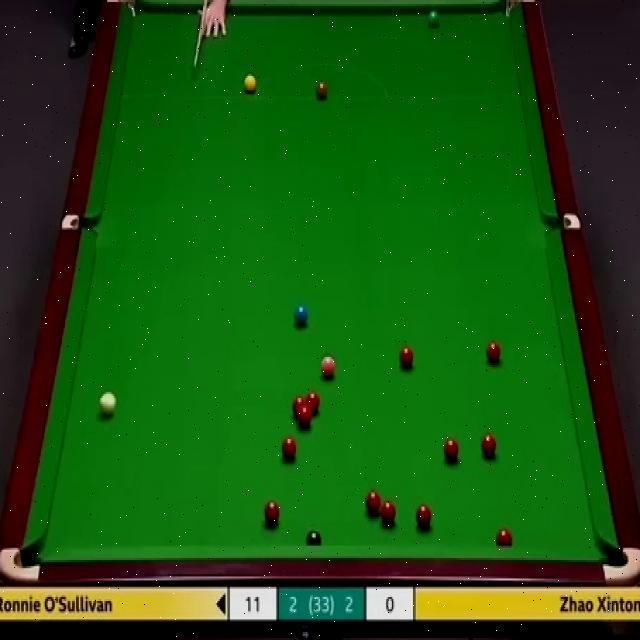black-ball: (305, 524, 323, 548)
blue-ball: (292, 304, 308, 329)
brown-ball: (314, 78, 328, 102)
green-ball: (426, 9, 442, 29)
pink-ball: (321, 351, 336, 379)
red-ball: (380, 498, 397, 529), (398, 343, 416, 372), (414, 503, 432, 531), (264, 499, 281, 528), (282, 434, 299, 461), (480, 432, 497, 458), (365, 489, 381, 516), (443, 438, 459, 463), (486, 339, 501, 365), (306, 391, 321, 417), (496, 526, 513, 547), (298, 408, 312, 429), (292, 396, 306, 416)
white-ball: (99, 389, 116, 418)
yellow-ball: (242, 73, 256, 93)
